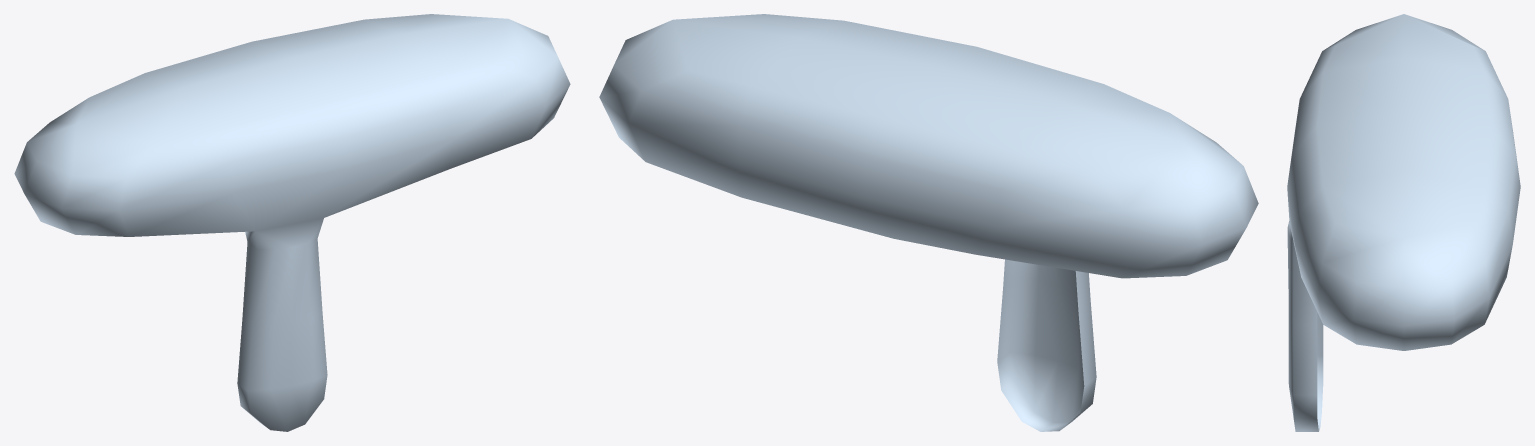
File: snow7.fbx
The picture shows the model from 3 angles, left to right: view 1: azimuth 30°, elevation 25°; view 2: azimuth 150°, elevation 25°; view 3: azimuth 270°, elevation 25°; orthographic projection. The views are drawn at different scales.
Parts seen in each view (by area): view 1: snow7; view 2: snow7; view 3: snow7.
Part boxes in pixels (x1,y1,x2,y2): snow7: [14, 14, 570, 431]; snow7: [599, 14, 1258, 431]; snow7: [1287, 14, 1520, 431].
Size of the model in its own units: 166 by 96.06 by 58.99.
